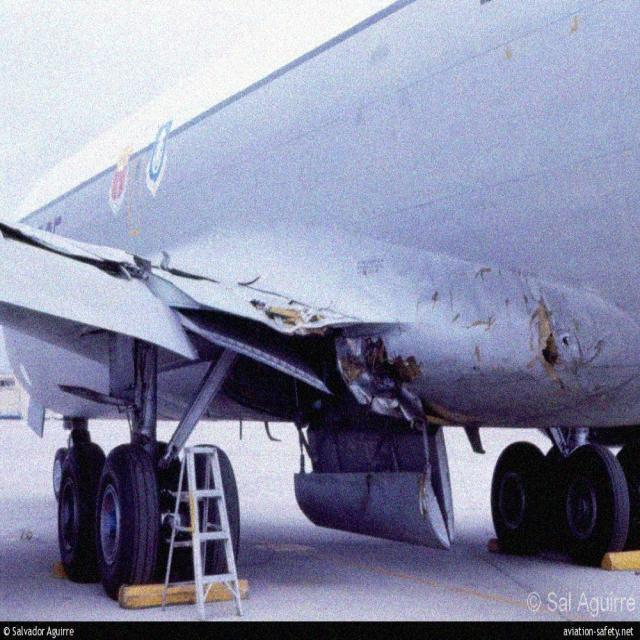crack: (532, 302, 575, 392)
dent: (421, 264, 530, 339)
